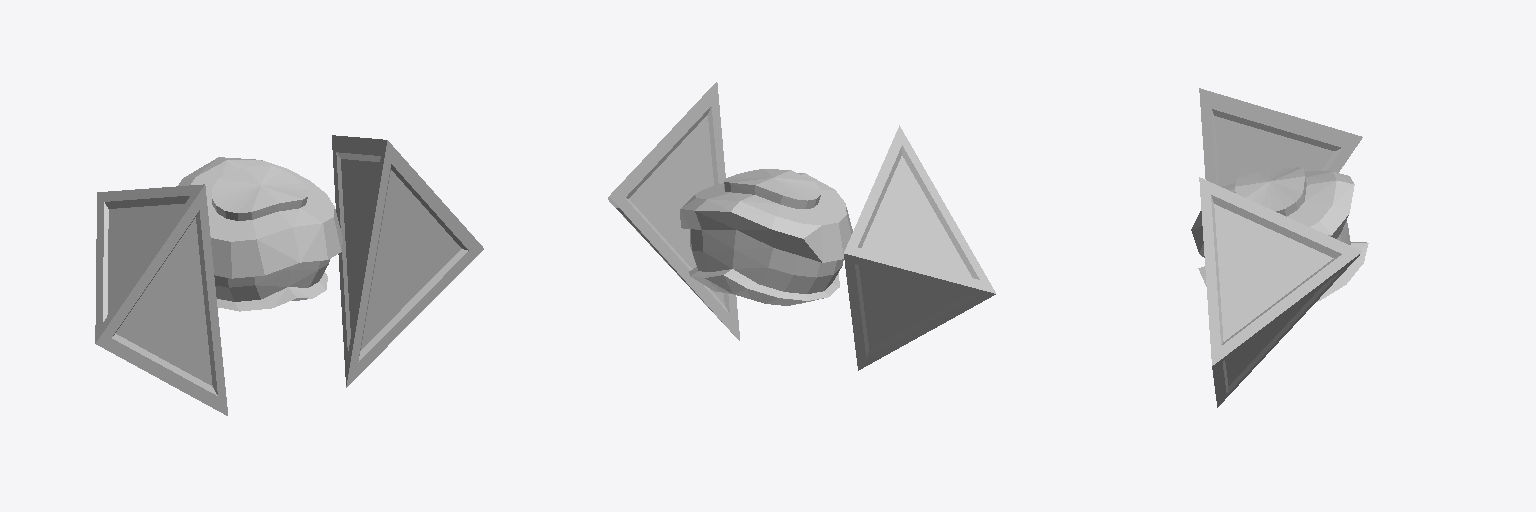
File: enemy_ship1.obj
3 renders of one model, left to right at view 1: azimuth 30°, elevation 25°; view 2: azimuth 150°, elevation 25°; view 3: azimuth 270°, elevation 25°, orthographic.
Parts seen in each view (by area): view 1: enemy_drone.001_Cube.016, enemy_drone_Cube.015; view 2: enemy_drone.001_Cube.016, enemy_drone_Cube.015; view 3: enemy_drone.001_Cube.016, enemy_drone_Cube.015.
Boxes of the visible parts, box(x1,y1,x2,y2) form: enemy_drone.001_Cube.016: box(95, 135, 483, 415); enemy_drone_Cube.015: box(96, 136, 482, 412); enemy_drone.001_Cube.016: box(608, 82, 995, 369); enemy_drone_Cube.015: box(609, 86, 993, 370); enemy_drone.001_Cube.016: box(1191, 88, 1363, 406); enemy_drone_Cube.015: box(1191, 90, 1368, 407).
Bounding box in the file's own units: 3.22 × 1.95 × 1.27.